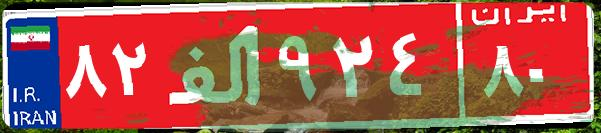0: (525, 38, 570, 115)
2: (330, 28, 385, 110), (110, 28, 158, 105)
4: (385, 28, 445, 110)
8: (57, 26, 110, 107), (475, 38, 525, 113)
9: (273, 28, 330, 110)
الف: (158, 15, 273, 115)
